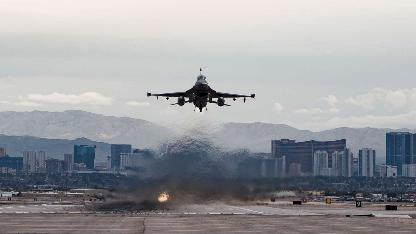F14: (146, 67, 254, 111)
